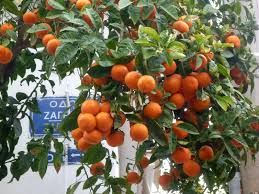orange: (79, 97, 99, 116), (136, 72, 154, 92), (142, 102, 161, 119), (180, 75, 197, 94)
